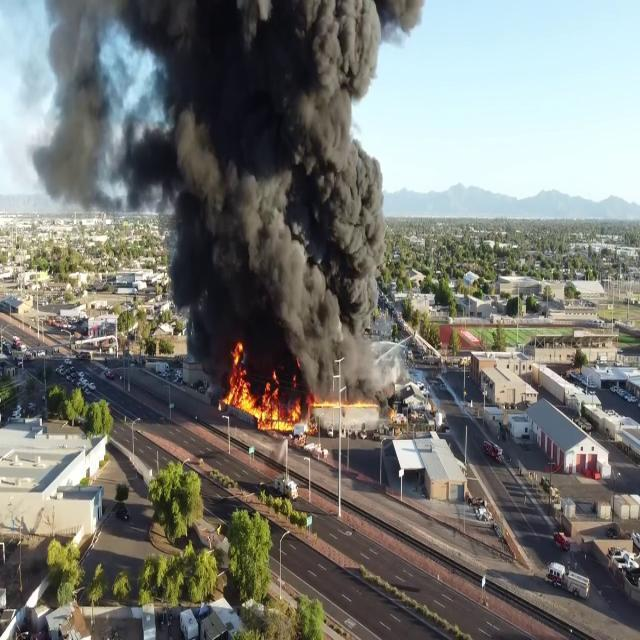Fire: (218, 350, 308, 432)
Smoke: (4, 1, 420, 400)
